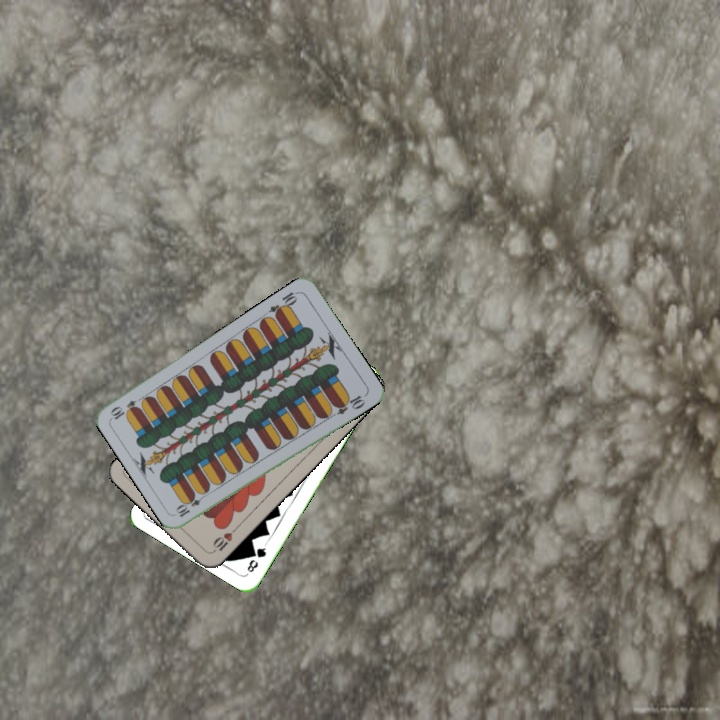E10: (265, 288, 301, 320), (172, 489, 209, 520)
G8: (243, 540, 269, 575)
H10: (208, 523, 240, 555)
